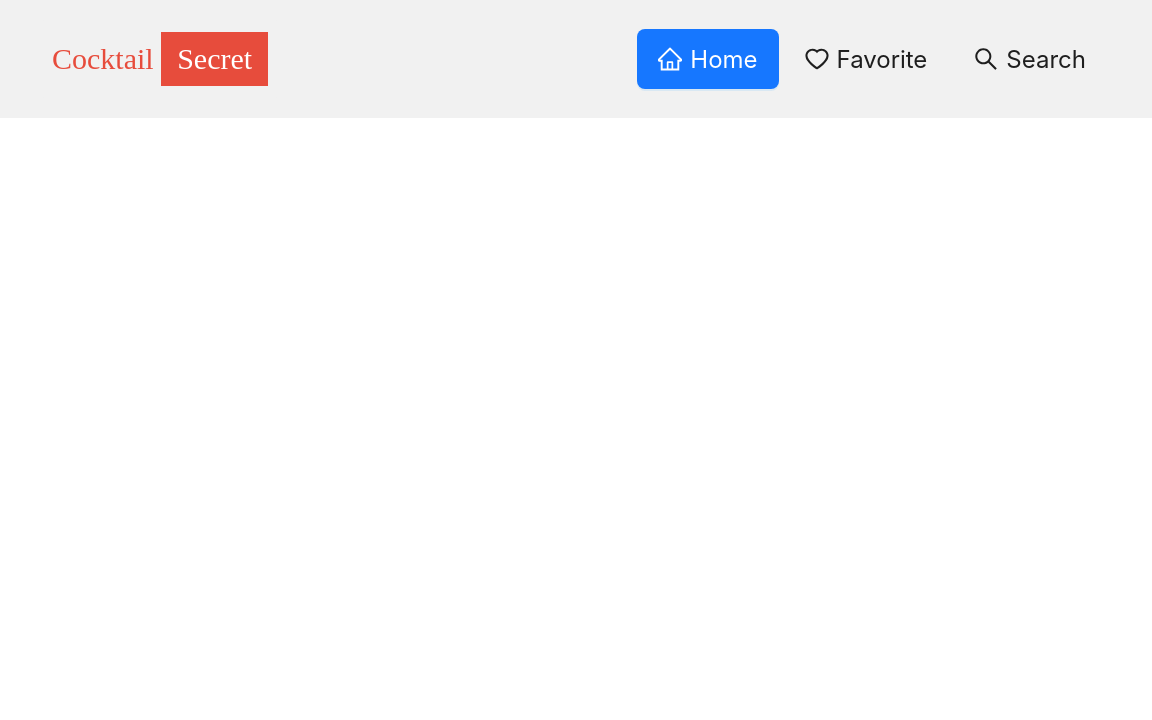
Navigation bar › Should be able click on search button and should show the search box
Click the button "Search" at (1030, 59), box [953,29,1107,89]
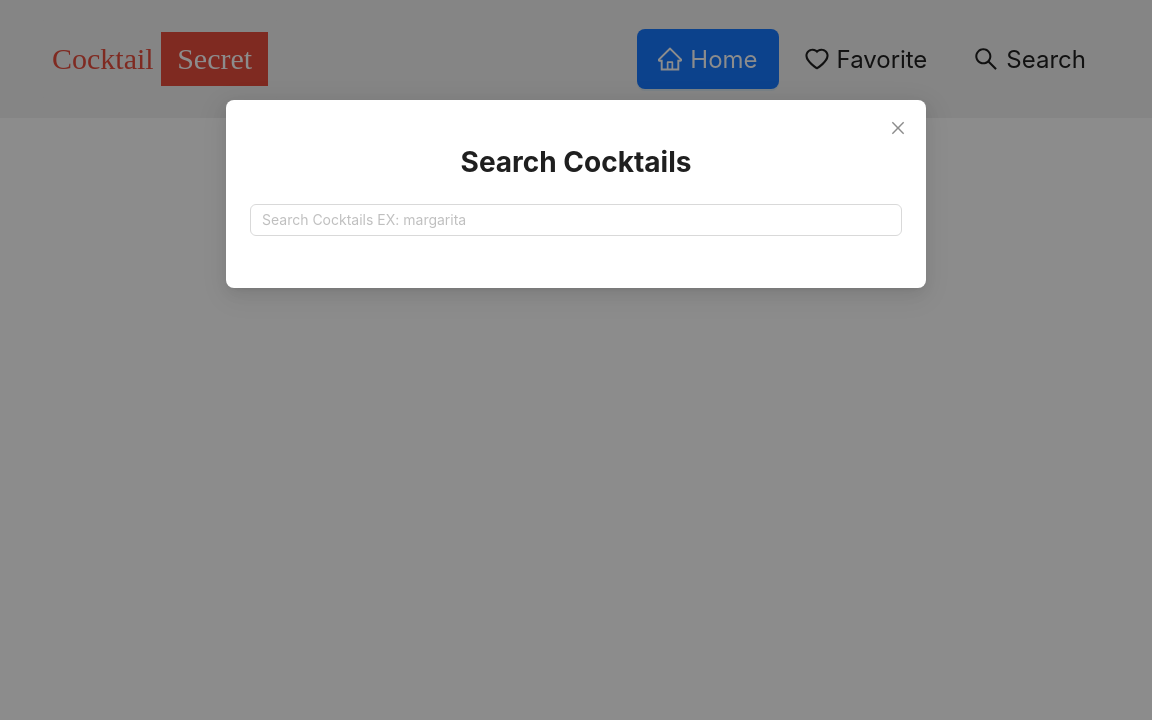
Check: the heading "Search Cocktails" is shown, box [460,145,691,179]
